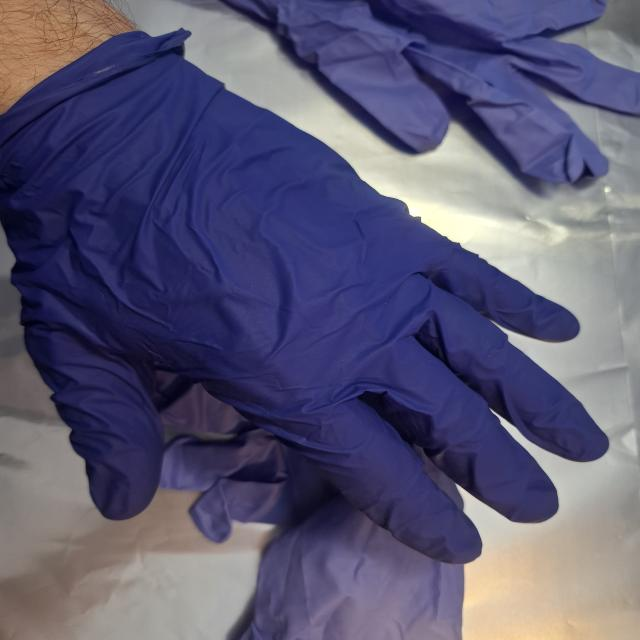glove_on: (0, 24, 614, 567)
